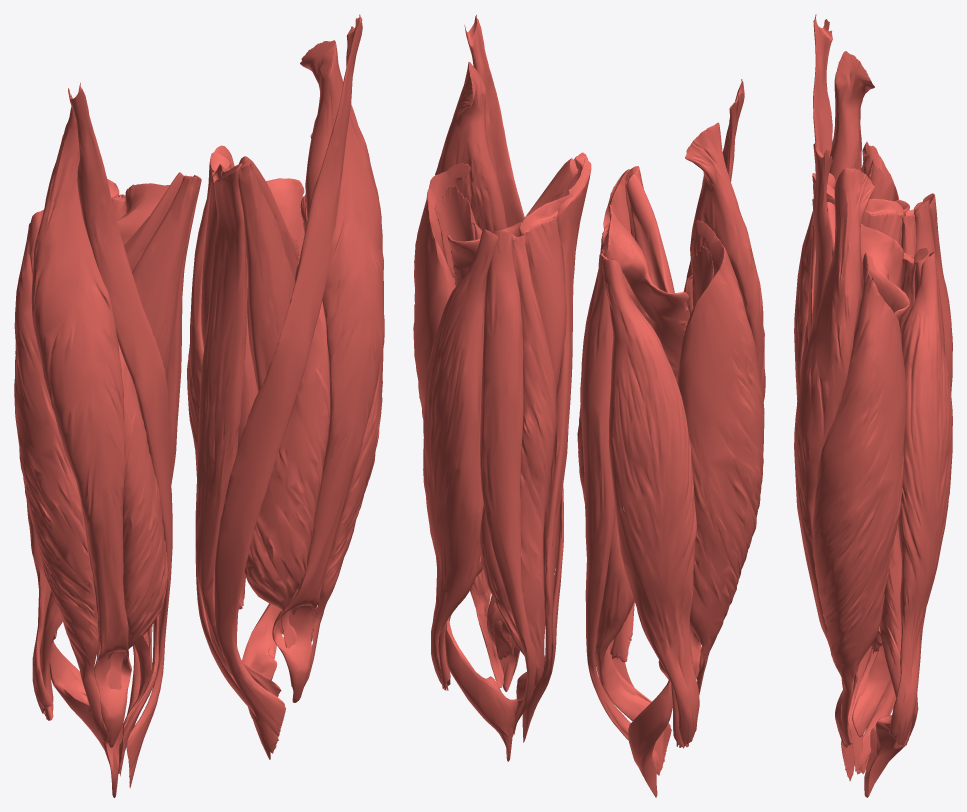
The model's file is supplement-knee-muscle.glb.
The picture shows the model from 3 angles, left to right: view 1: azimuth 30°, elevation 25°; view 2: azimuth 150°, elevation 25°; view 3: azimuth 270°, elevation 25°; orthographic projection. The views are drawn at different scales.
Parts seen in each view (by area): view 1: knee:quadriceps:isa:FJ1433, knee:quadriceps:isa:FJ1433M, knee:sartorius:isa:FJ1434M, knee:quadriceps:isa:FJ1442, knee:gracilis:isa:FJ1421M, knee:sartorius:isa:FJ1434, knee:quadriceps:isa:FJ1443M, knee:quadriceps:isa:FJ1443, knee:adductor-longus:isa:FJ1402M, knee:adductor-longus:isa:FJ1402, knee:adductor-magnus:isa:FJ1403M, knee:quadriceps:isa:FJ1442M (+12 smaller); view 2: knee:biceps-femoris:isa:FJ1395, knee:quadriceps:isa:FJ1442, knee:biceps-femoris:isa:FJ1395M, knee:semitendinosus:isa:FJ1436M, knee:semimembranosus:isa:FJ1435M, knee:semitendinosus:isa:FJ1436, knee:quadriceps:isa:FJ1442M, knee:quadriceps:isa:FJ1433, knee:gracilis:isa:FJ1421M, knee:quadriceps:isa:FJ1433M, knee:adductor-magnus:isa:FJ1403M, knee:adductor-magnus:isa:FJ1403 (+10 smaller); view 3: knee:quadriceps:isa:FJ1442M, knee:biceps-femoris:isa:FJ1395M, knee:quadriceps:isa:FJ1433M, knee:quadriceps:isa:FJ1433, knee:sartorius:isa:FJ1434M, knee:adductor-magnus:isa:FJ1403M, knee:sartorius:isa:FJ1434, knee:biceps-femoris:isa:FJ1444M, knee:semimembranosus:isa:FJ1435M, knee:popliteus:isa:FJ1430M, knee:biceps-femoris:isa:FJ1395, knee:semitendinosus:isa:FJ1436M (+6 smaller).
Part boxes in pixels (x1,y1,x2,y2): knee:quadriceps:isa:FJ1433: [31, 106, 131, 747]; knee:quadriceps:isa:FJ1433M: [272, 40, 384, 702]; knee:sartorius:isa:FJ1434M: [214, 14, 362, 753]; knee:quadriceps:isa:FJ1442: [14, 209, 108, 744]; knee:gracilis:isa:FJ1421M: [196, 163, 281, 696]; knee:sartorius:isa:FJ1434: [68, 82, 172, 788]; knee:quadriceps:isa:FJ1443M: [244, 194, 330, 648]; knee:quadriceps:isa:FJ1443: [106, 343, 168, 689]; knee:adductor-longus:isa:FJ1402M: [238, 160, 295, 392]; knee:adductor-longus:isa:FJ1402: [132, 175, 198, 374]; knee:adductor-magnus:isa:FJ1403M: [201, 164, 304, 610]; knee:quadriceps:isa:FJ1442M: [304, 133, 383, 685]; knee:biceps-femoris:isa:FJ1395: [602, 259, 699, 748]; knee:quadriceps:isa:FJ1442: [677, 220, 764, 694]; knee:biceps-femoris:isa:FJ1395M: [423, 228, 498, 690]; knee:semitendinosus:isa:FJ1436M: [480, 230, 535, 736]; knee:semimembranosus:isa:FJ1435M: [479, 234, 556, 700]; knee:semitendinosus:isa:FJ1436: [581, 254, 659, 771]; knee:quadriceps:isa:FJ1442M: [413, 163, 503, 687]; knee:quadriceps:isa:FJ1433: [658, 122, 765, 679]; knee:gracilis:isa:FJ1421M: [514, 158, 591, 734]; knee:quadriceps:isa:FJ1433M: [435, 62, 519, 691]; knee:adductor-magnus:isa:FJ1403M: [447, 194, 572, 391]; knee:adductor-magnus:isa:FJ1403: [600, 203, 689, 661]; knee:quadriceps:isa:FJ1442M: [812, 252, 906, 745]; knee:biceps-femoris:isa:FJ1395M: [889, 252, 952, 748]; knee:quadriceps:isa:FJ1433M: [794, 168, 874, 747]; knee:quadriceps:isa:FJ1433: [794, 51, 874, 400]; knee:sartorius:isa:FJ1434M: [811, 139, 871, 780]; knee:adductor-magnus:isa:FJ1403M: [860, 224, 909, 653]; knee:sartorius:isa:FJ1434: [807, 14, 843, 688]; knee:biceps-femoris:isa:FJ1444M: [880, 522, 912, 748]; knee:semimembranosus:isa:FJ1435M: [852, 252, 915, 736]; knee:popliteus:isa:FJ1430M: [864, 695, 918, 797]; knee:biceps-femoris:isa:FJ1395: [922, 193, 952, 394]; knee:semitendinosus:isa:FJ1436M: [858, 248, 929, 773].
Bounding box in the file's own units: 0.3192 × 0.6399 × 0.1341.
